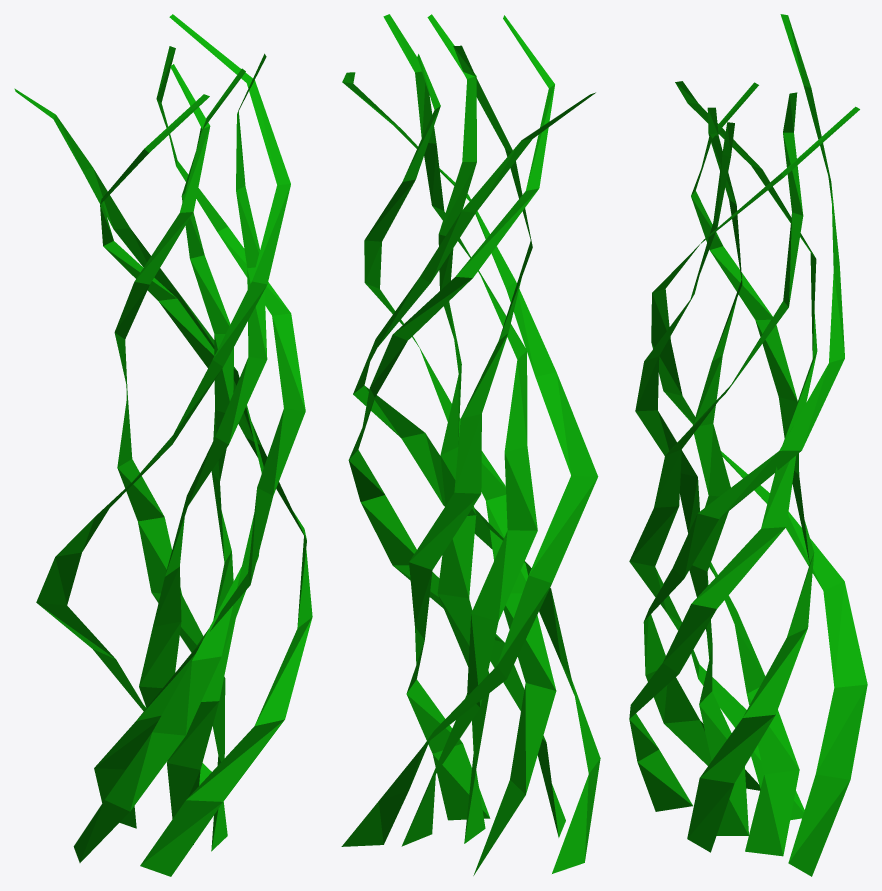
Rendered from my_mesh_Algae2.glb.
3 renders of one model, left to right at view 1: azimuth 30°, elevation 25°; view 2: azimuth 150°, elevation 25°; view 3: azimuth 270°, elevation 25°, orthographic. The views are drawn at different scales.
Visible parts, largest first — view 1: Algae2; view 2: Algae2; view 3: Algae2.
Part boxes in pixels (x1,y1,x2,y2): Algae2: [14, 14, 312, 876]; Algae2: [341, 14, 600, 875]; Algae2: [629, 14, 867, 876].
Size of the model in its own units: 0.6848 by 1.94 by 0.5565.
1 material, 1 textured.
